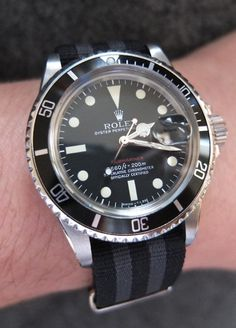clock: (55, 75, 195, 210)
